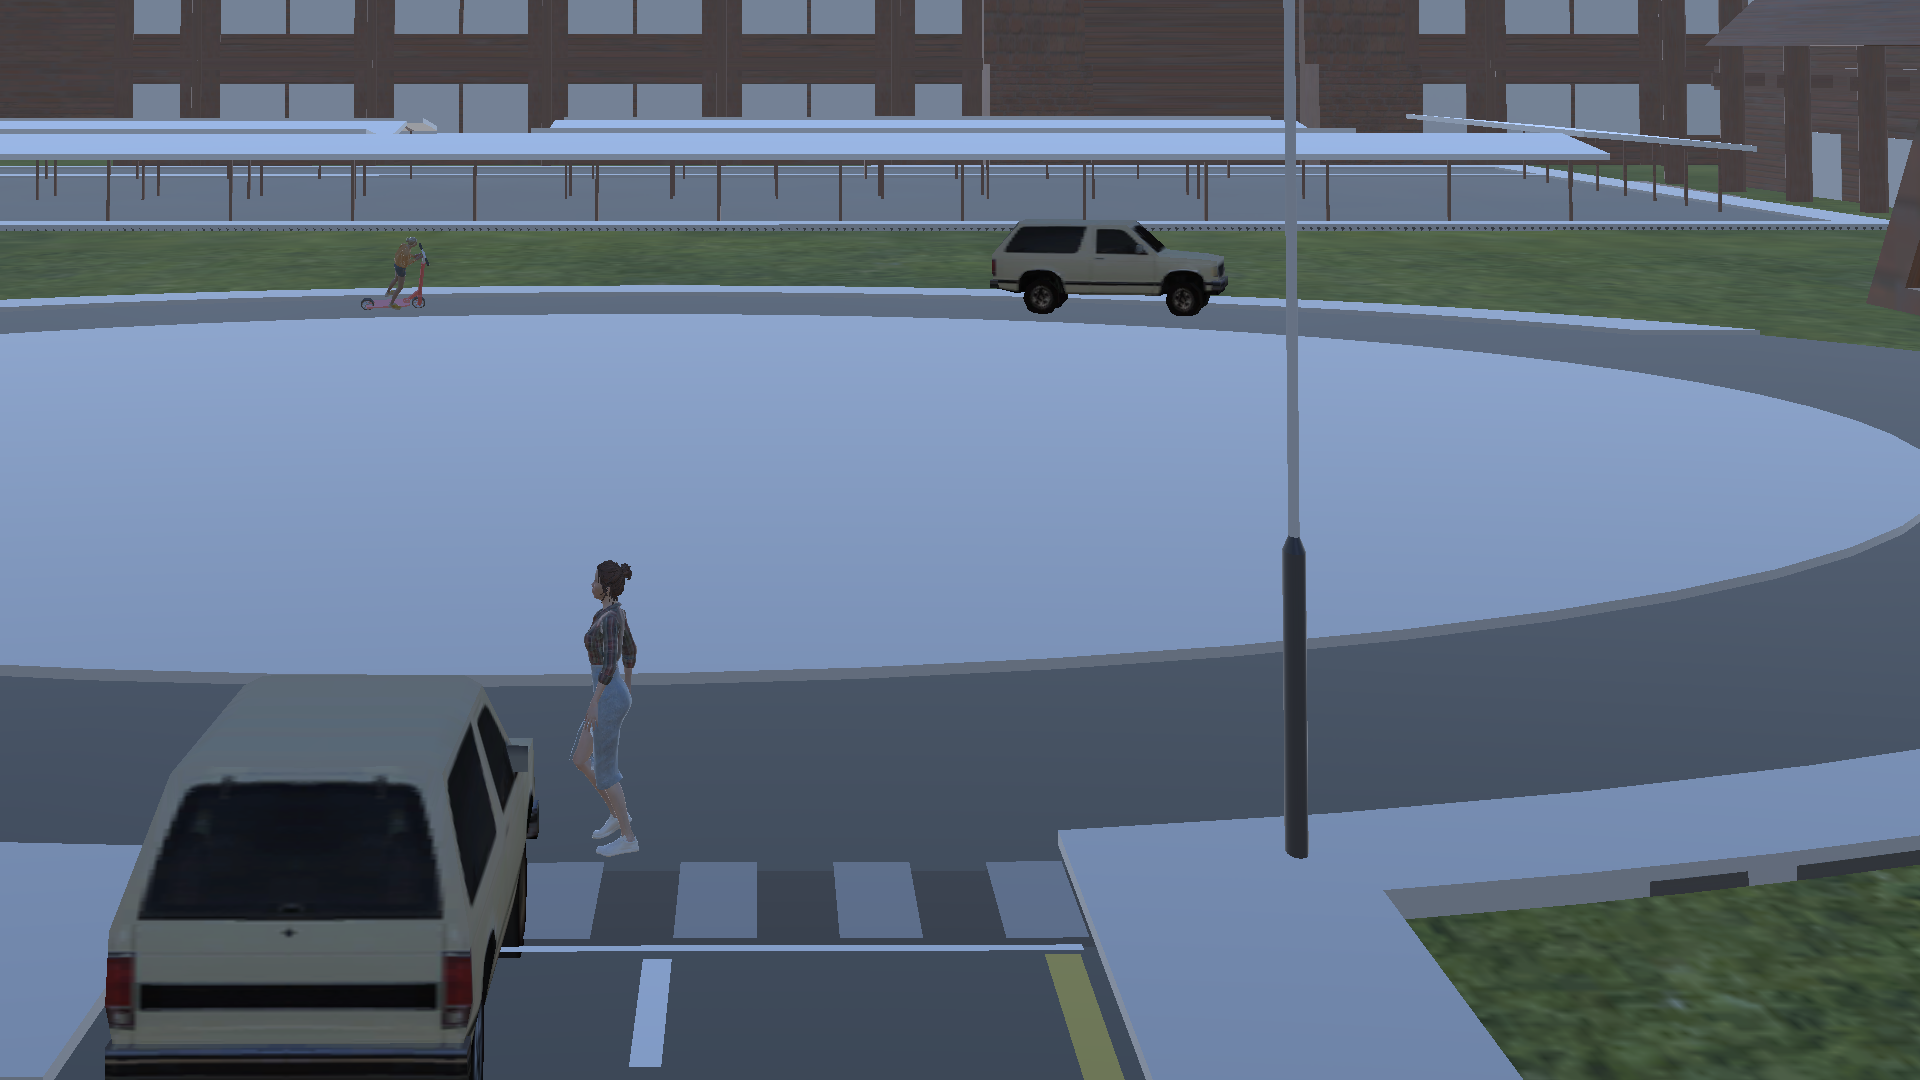pedestrian: (568, 556, 660, 863)
